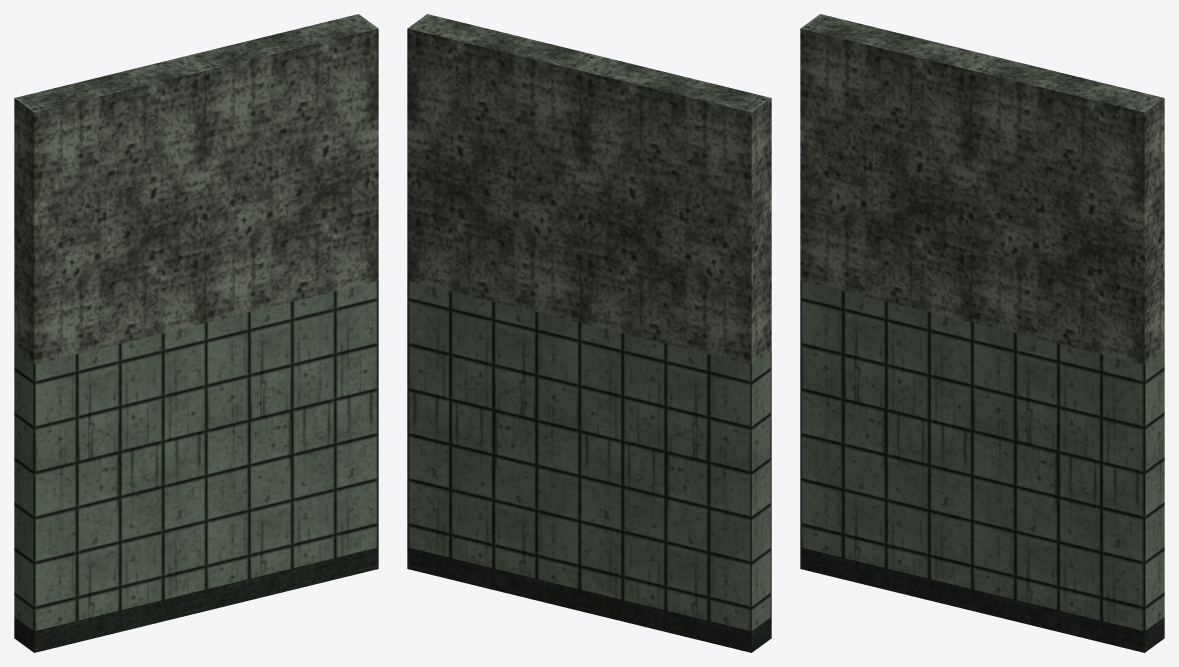
File: SM_Wall_2m.fbx
The picture shows the model from 3 angles, left to right: view 1: azimuth 30°, elevation 25°; view 2: azimuth 150°, elevation 25°; view 3: azimuth 330°, elevation 25°; orthographic projection.
Parts seen in each view (by area): view 1: SM_Wall_2m; view 2: SM_Wall_2m; view 3: SM_Wall_2m.
Boxes of the visible parts, bbox=[...] form: SM_Wall_2m: bbox=[14, 14, 378, 652]; SM_Wall_2m: bbox=[407, 14, 771, 652]; SM_Wall_2m: bbox=[800, 14, 1164, 652].
Size of the model in its own units: 2 by 3 by 0.2.
